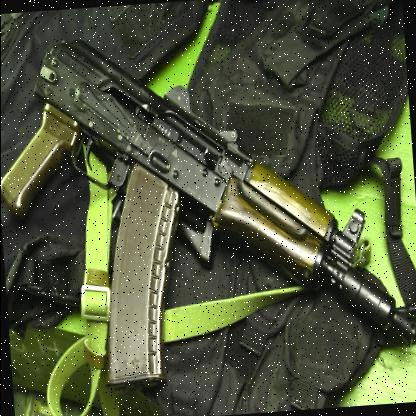rifle: (0, 2, 416, 394)
